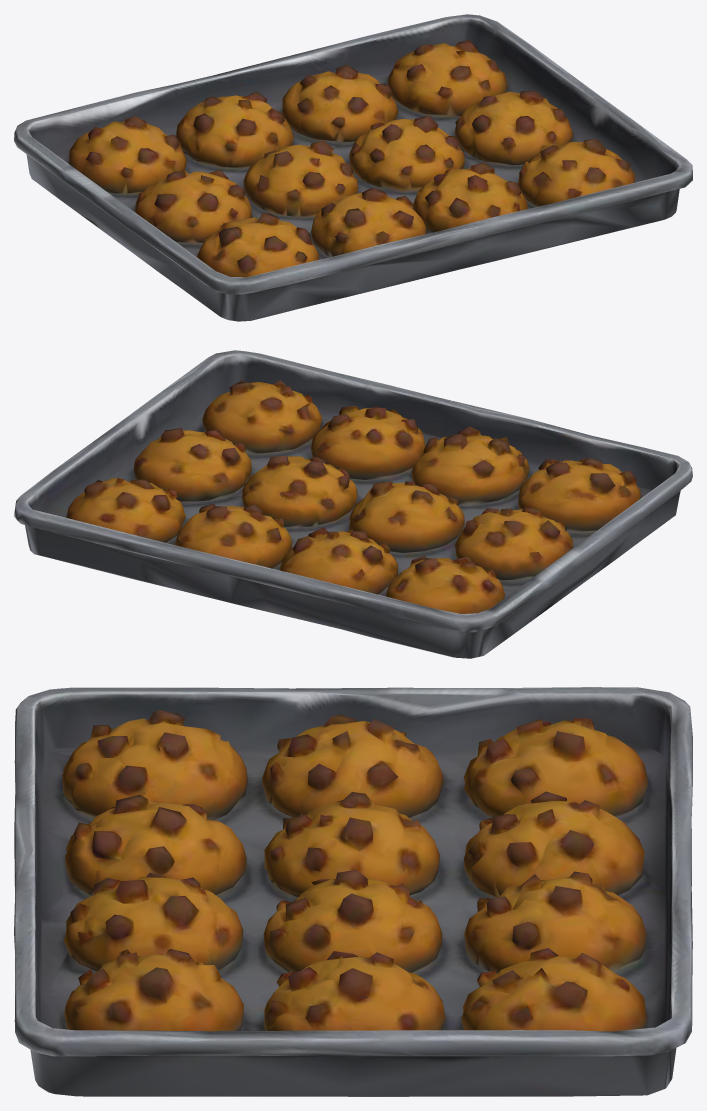
The model's file is tray.glb.
3 views of the same model, one above another, from view 1: azimuth 30°, elevation 25°; view 2: azimuth 150°, elevation 25°; view 3: azimuth 270°, elevation 25° (orthographic). The views are drawn at different scales.
Parts seen in each view (by area): view 1: tray-node; view 2: tray-node; view 3: tray-node.
Boxes of the visible parts, box(x1,y1,x2,y2) form: tray-node: box(14, 14, 692, 321); tray-node: box(14, 350, 692, 658); tray-node: box(14, 687, 692, 1096).
Size of the model in its own units: 8.43 by 1 by 6.83.
Materials: 1 (1 with a texture image).
